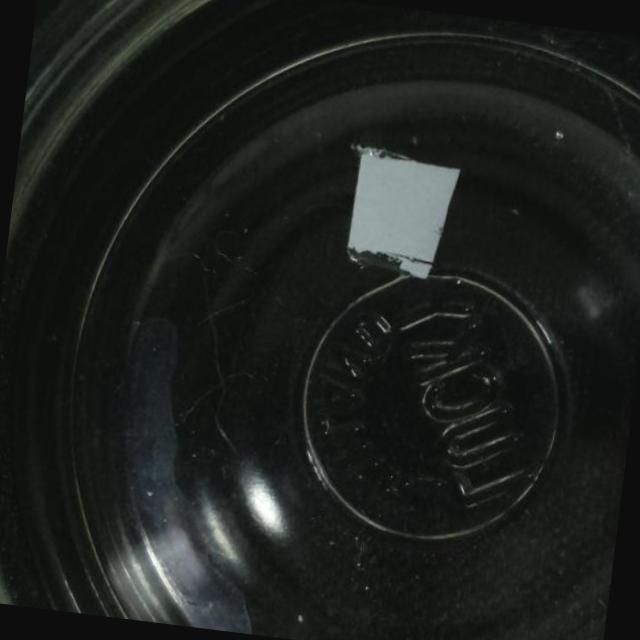fiber: (332, 140, 467, 286)
